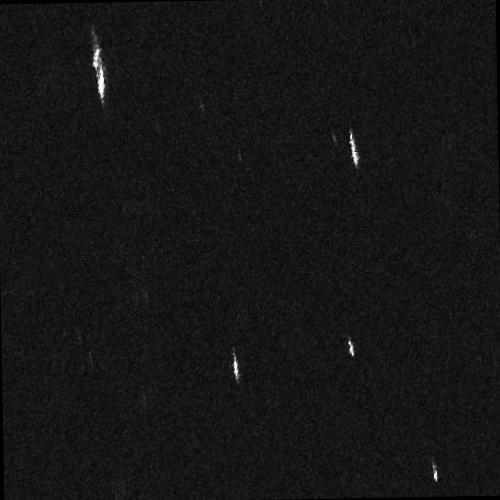ship: (91, 37, 107, 106), (348, 128, 359, 169), (232, 349, 240, 384), (348, 338, 356, 359), (432, 462, 439, 483)
